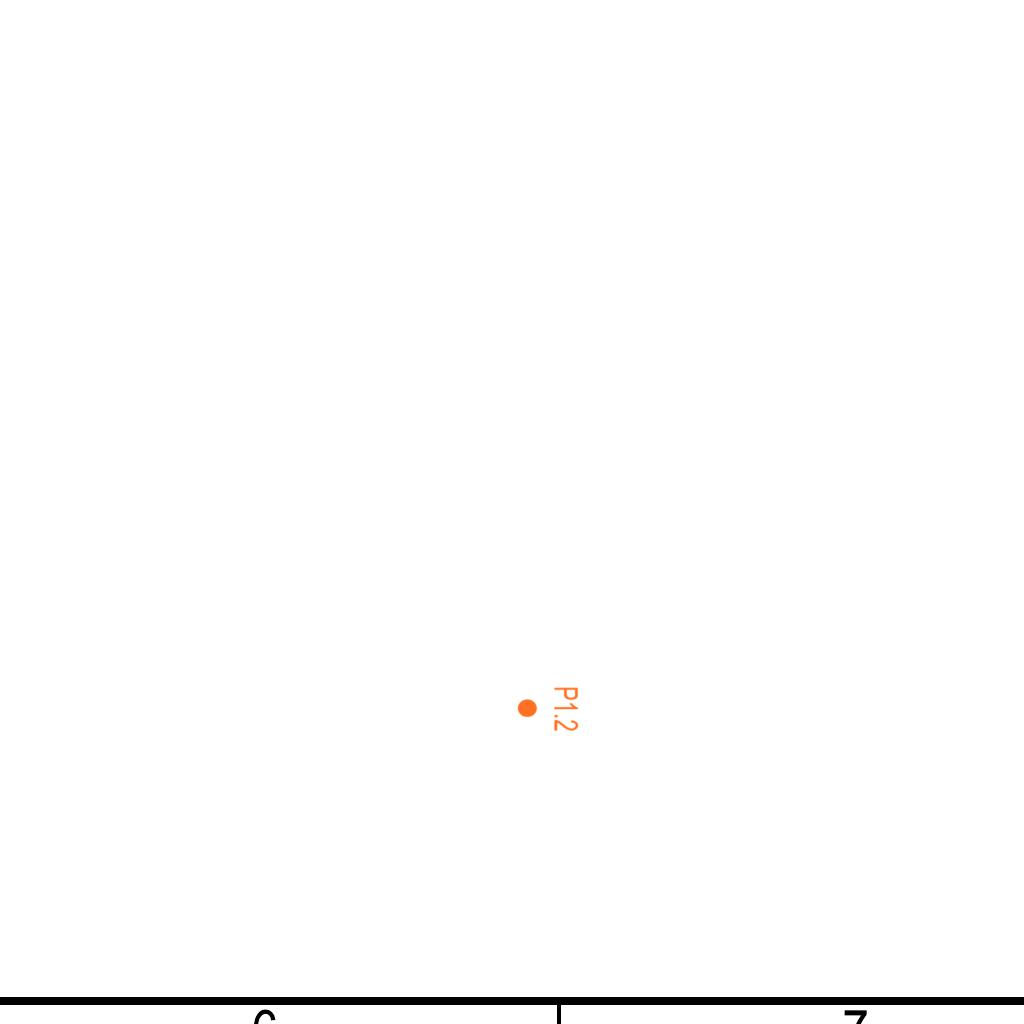Downlight_LED_Einbauleuchten_Flur: (516, 686, 580, 732)
